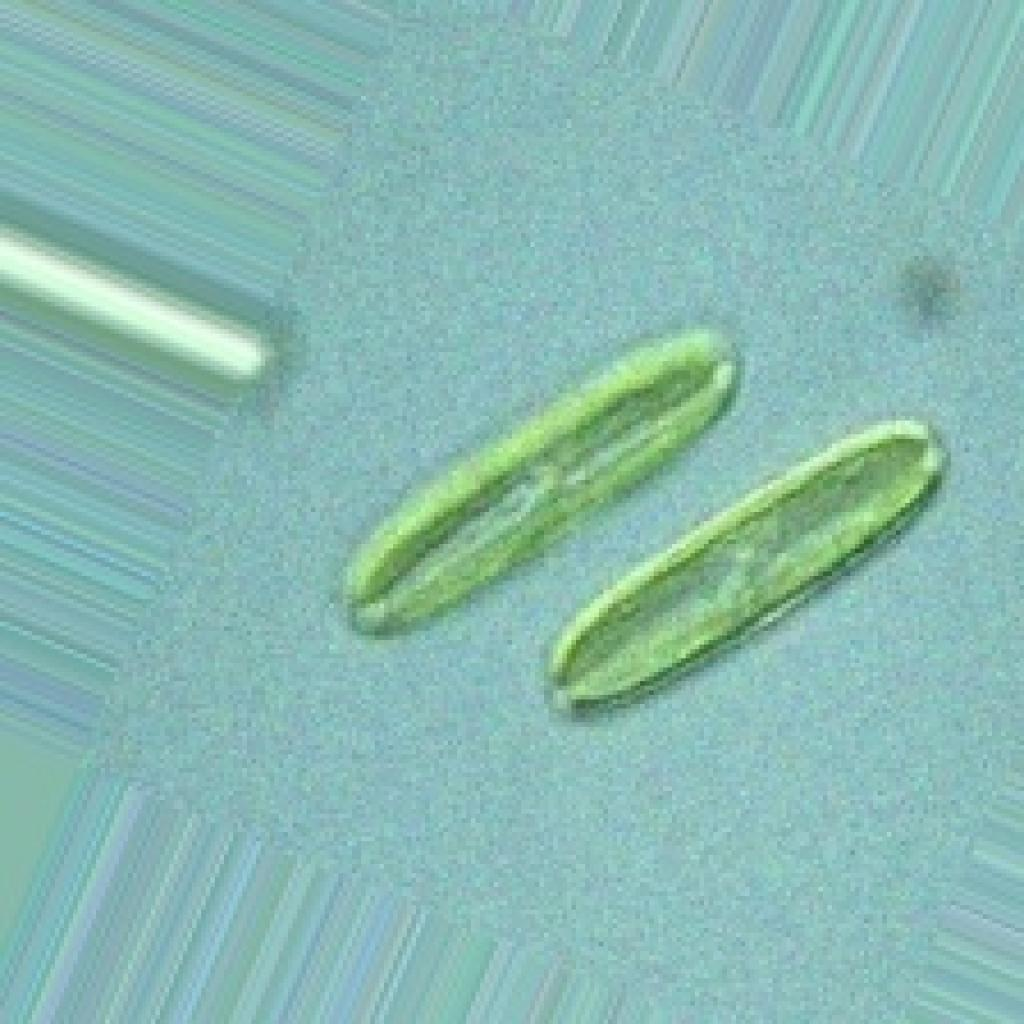Microalgae: (338, 320, 741, 635), (544, 412, 946, 713)
